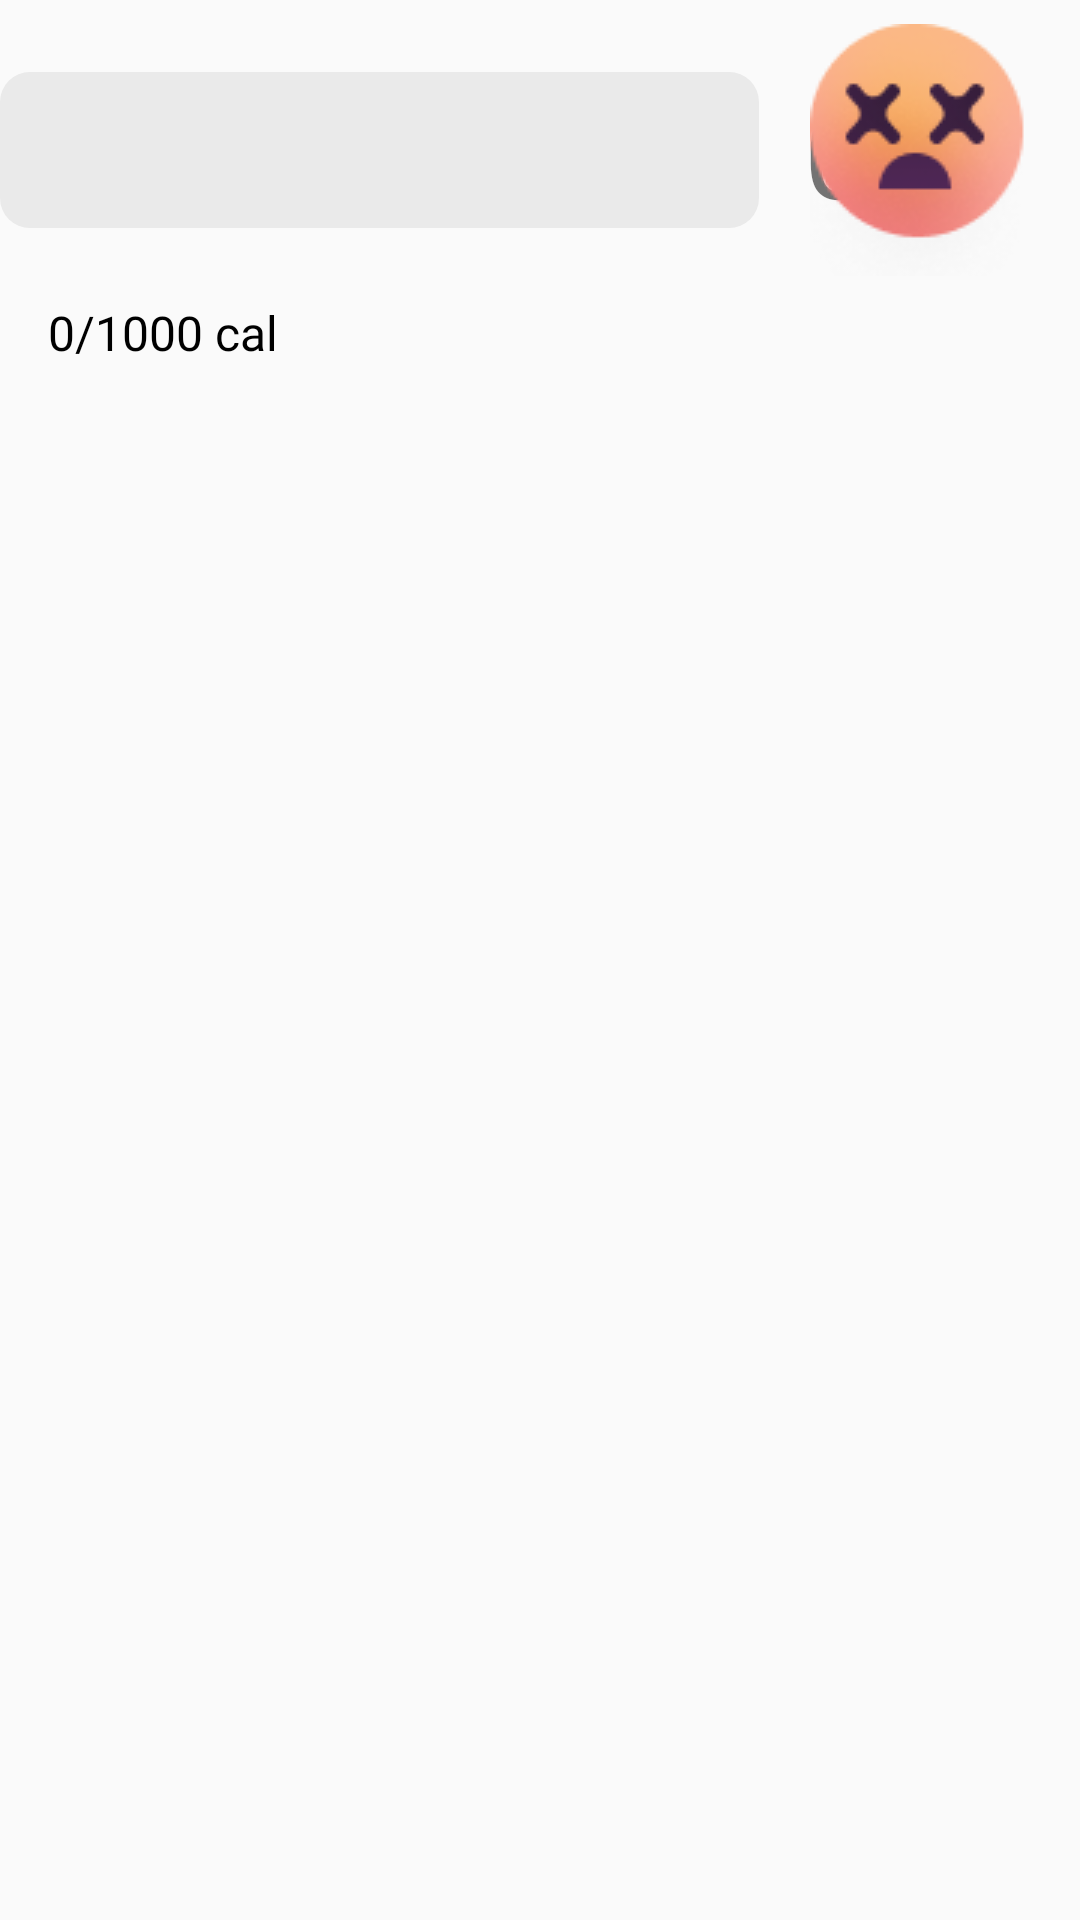

Icon bounding boxes for this 1080x1920 phone screenshot, format (x1, y1, x2, y2):
dizzyface: (810, 24, 1024, 238)
